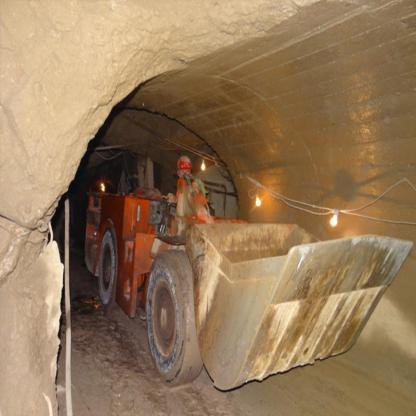bull_dozer/loader/grader: (92, 130, 395, 380)
